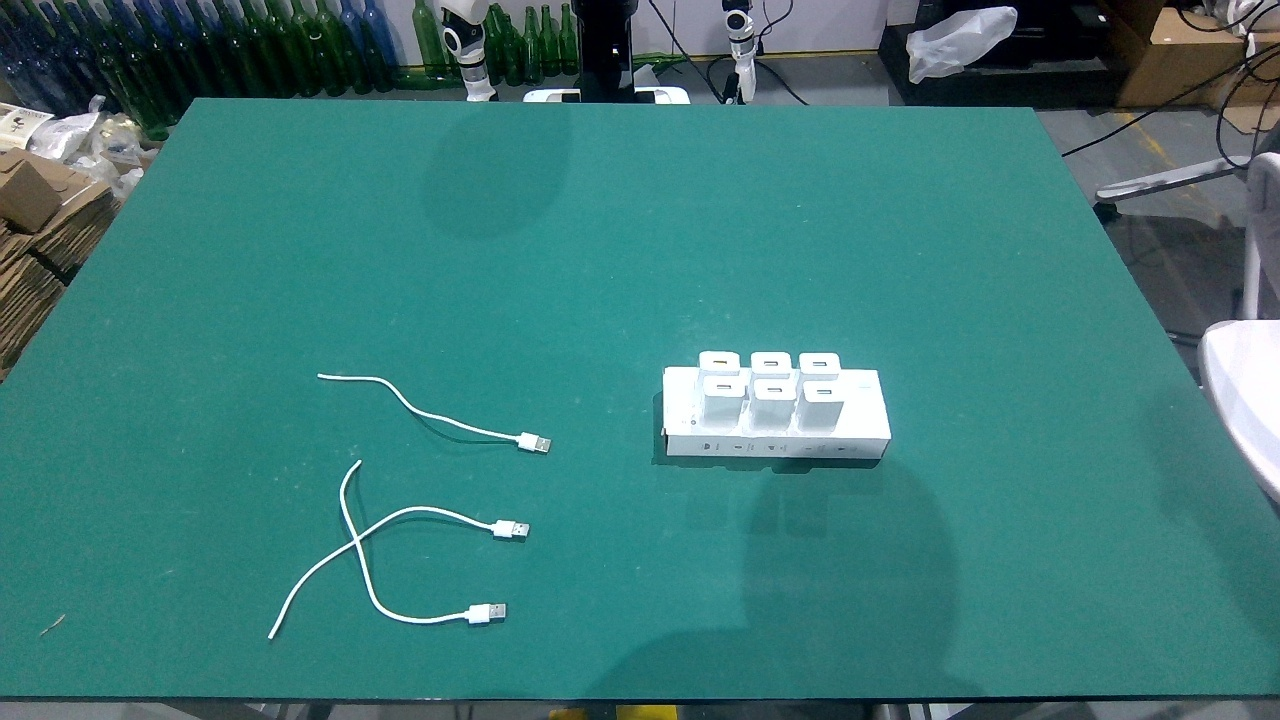usb_a_port: (761, 359, 781, 368), (814, 388, 834, 397), (764, 386, 784, 394), (716, 383, 733, 391), (711, 359, 729, 366), (810, 361, 829, 367)
